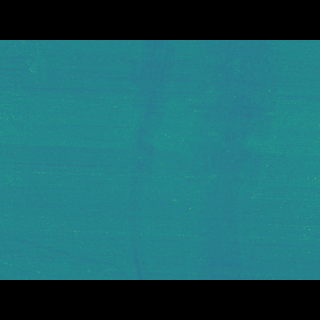Loch: (120, 71, 282, 249)
